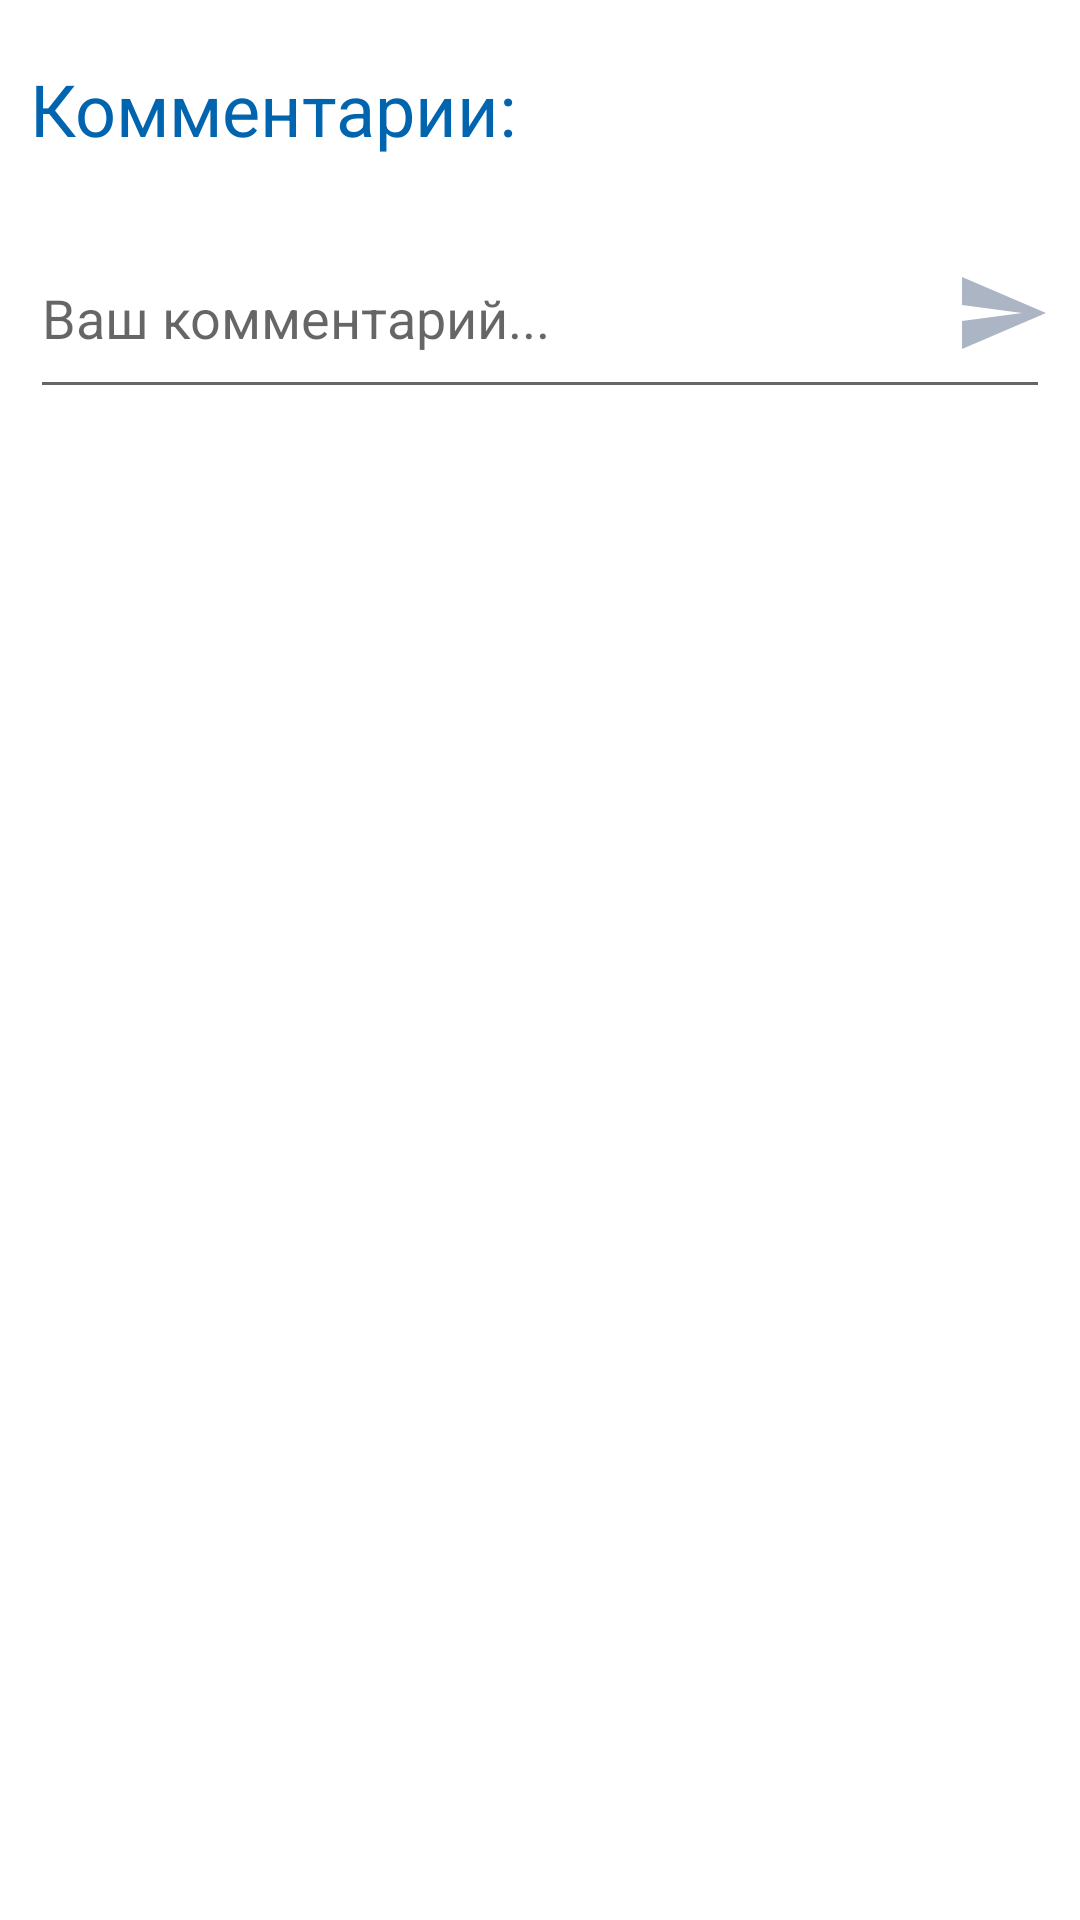

Screen size 1080 × 1920. Icon name, then its box in pixels as (x1, y1, x2, y2):
send: (962, 277, 1045, 349)
